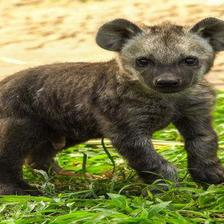hyena: (0, 11, 224, 214)
